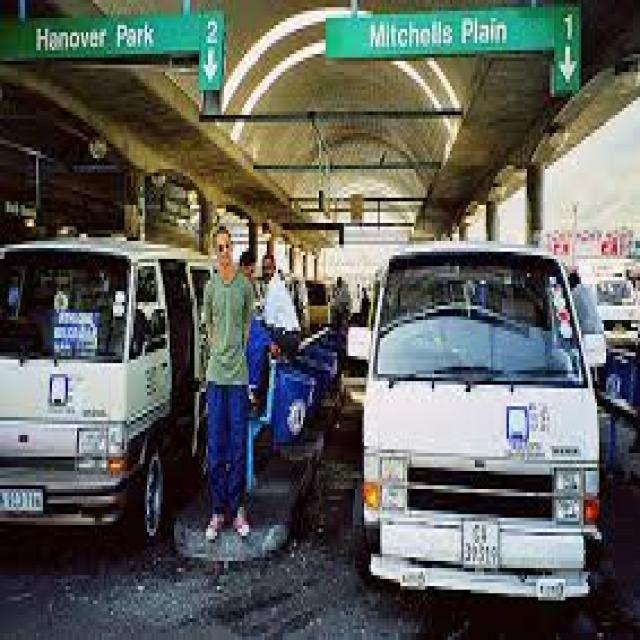MiniBus taxi: (350, 237, 613, 590)
Pedestrians: (190, 219, 262, 543)
